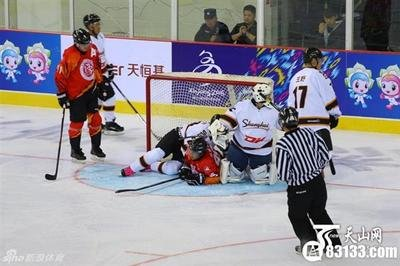fall: (215, 76, 282, 169)
